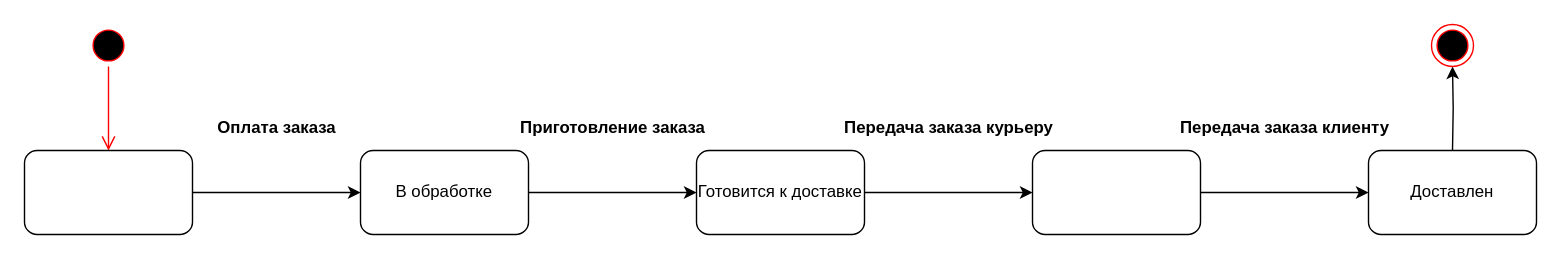
Some shapes in this 1561 by 270 pixel diagram are drawn without their labels. Each missing label, with the box of its shape:
На доставке: (1031, 149, 1200, 234)
Создан: (23, 149, 192, 234)
